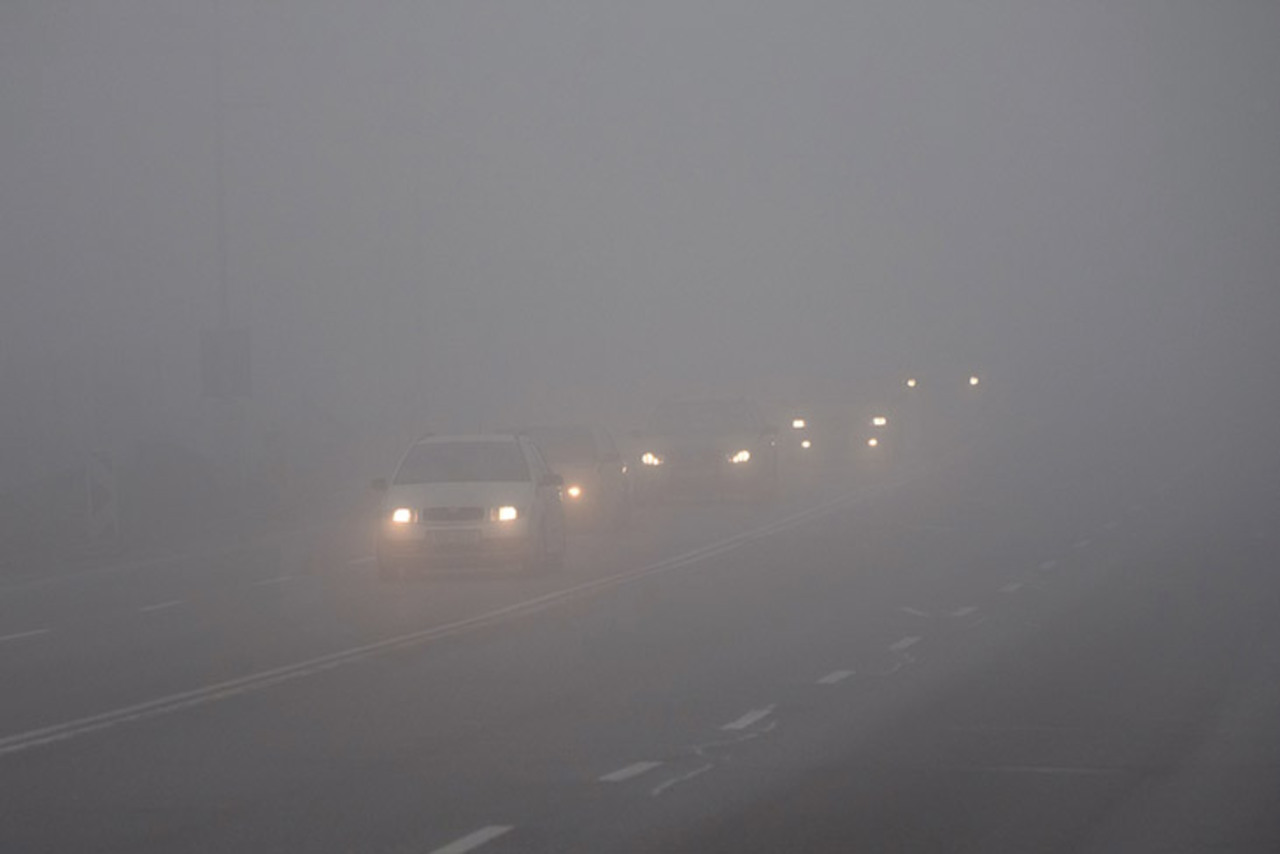car: (369, 431, 579, 578), (634, 389, 776, 506), (778, 356, 899, 475), (529, 424, 631, 536), (899, 328, 1021, 420)
